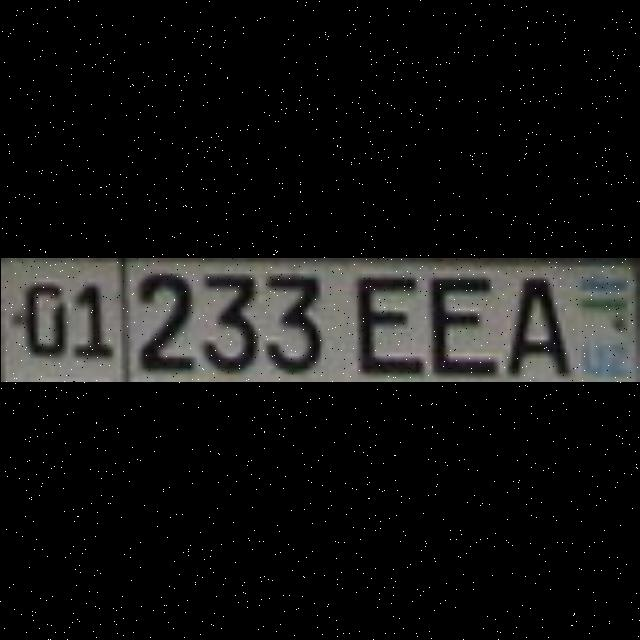0: (16, 274, 58, 354)
1: (66, 278, 108, 354)
2: (129, 266, 187, 366)
3: (258, 266, 316, 366), (195, 266, 249, 370)
A: (503, 270, 569, 370)
E: (349, 270, 415, 370), (420, 270, 486, 370)
